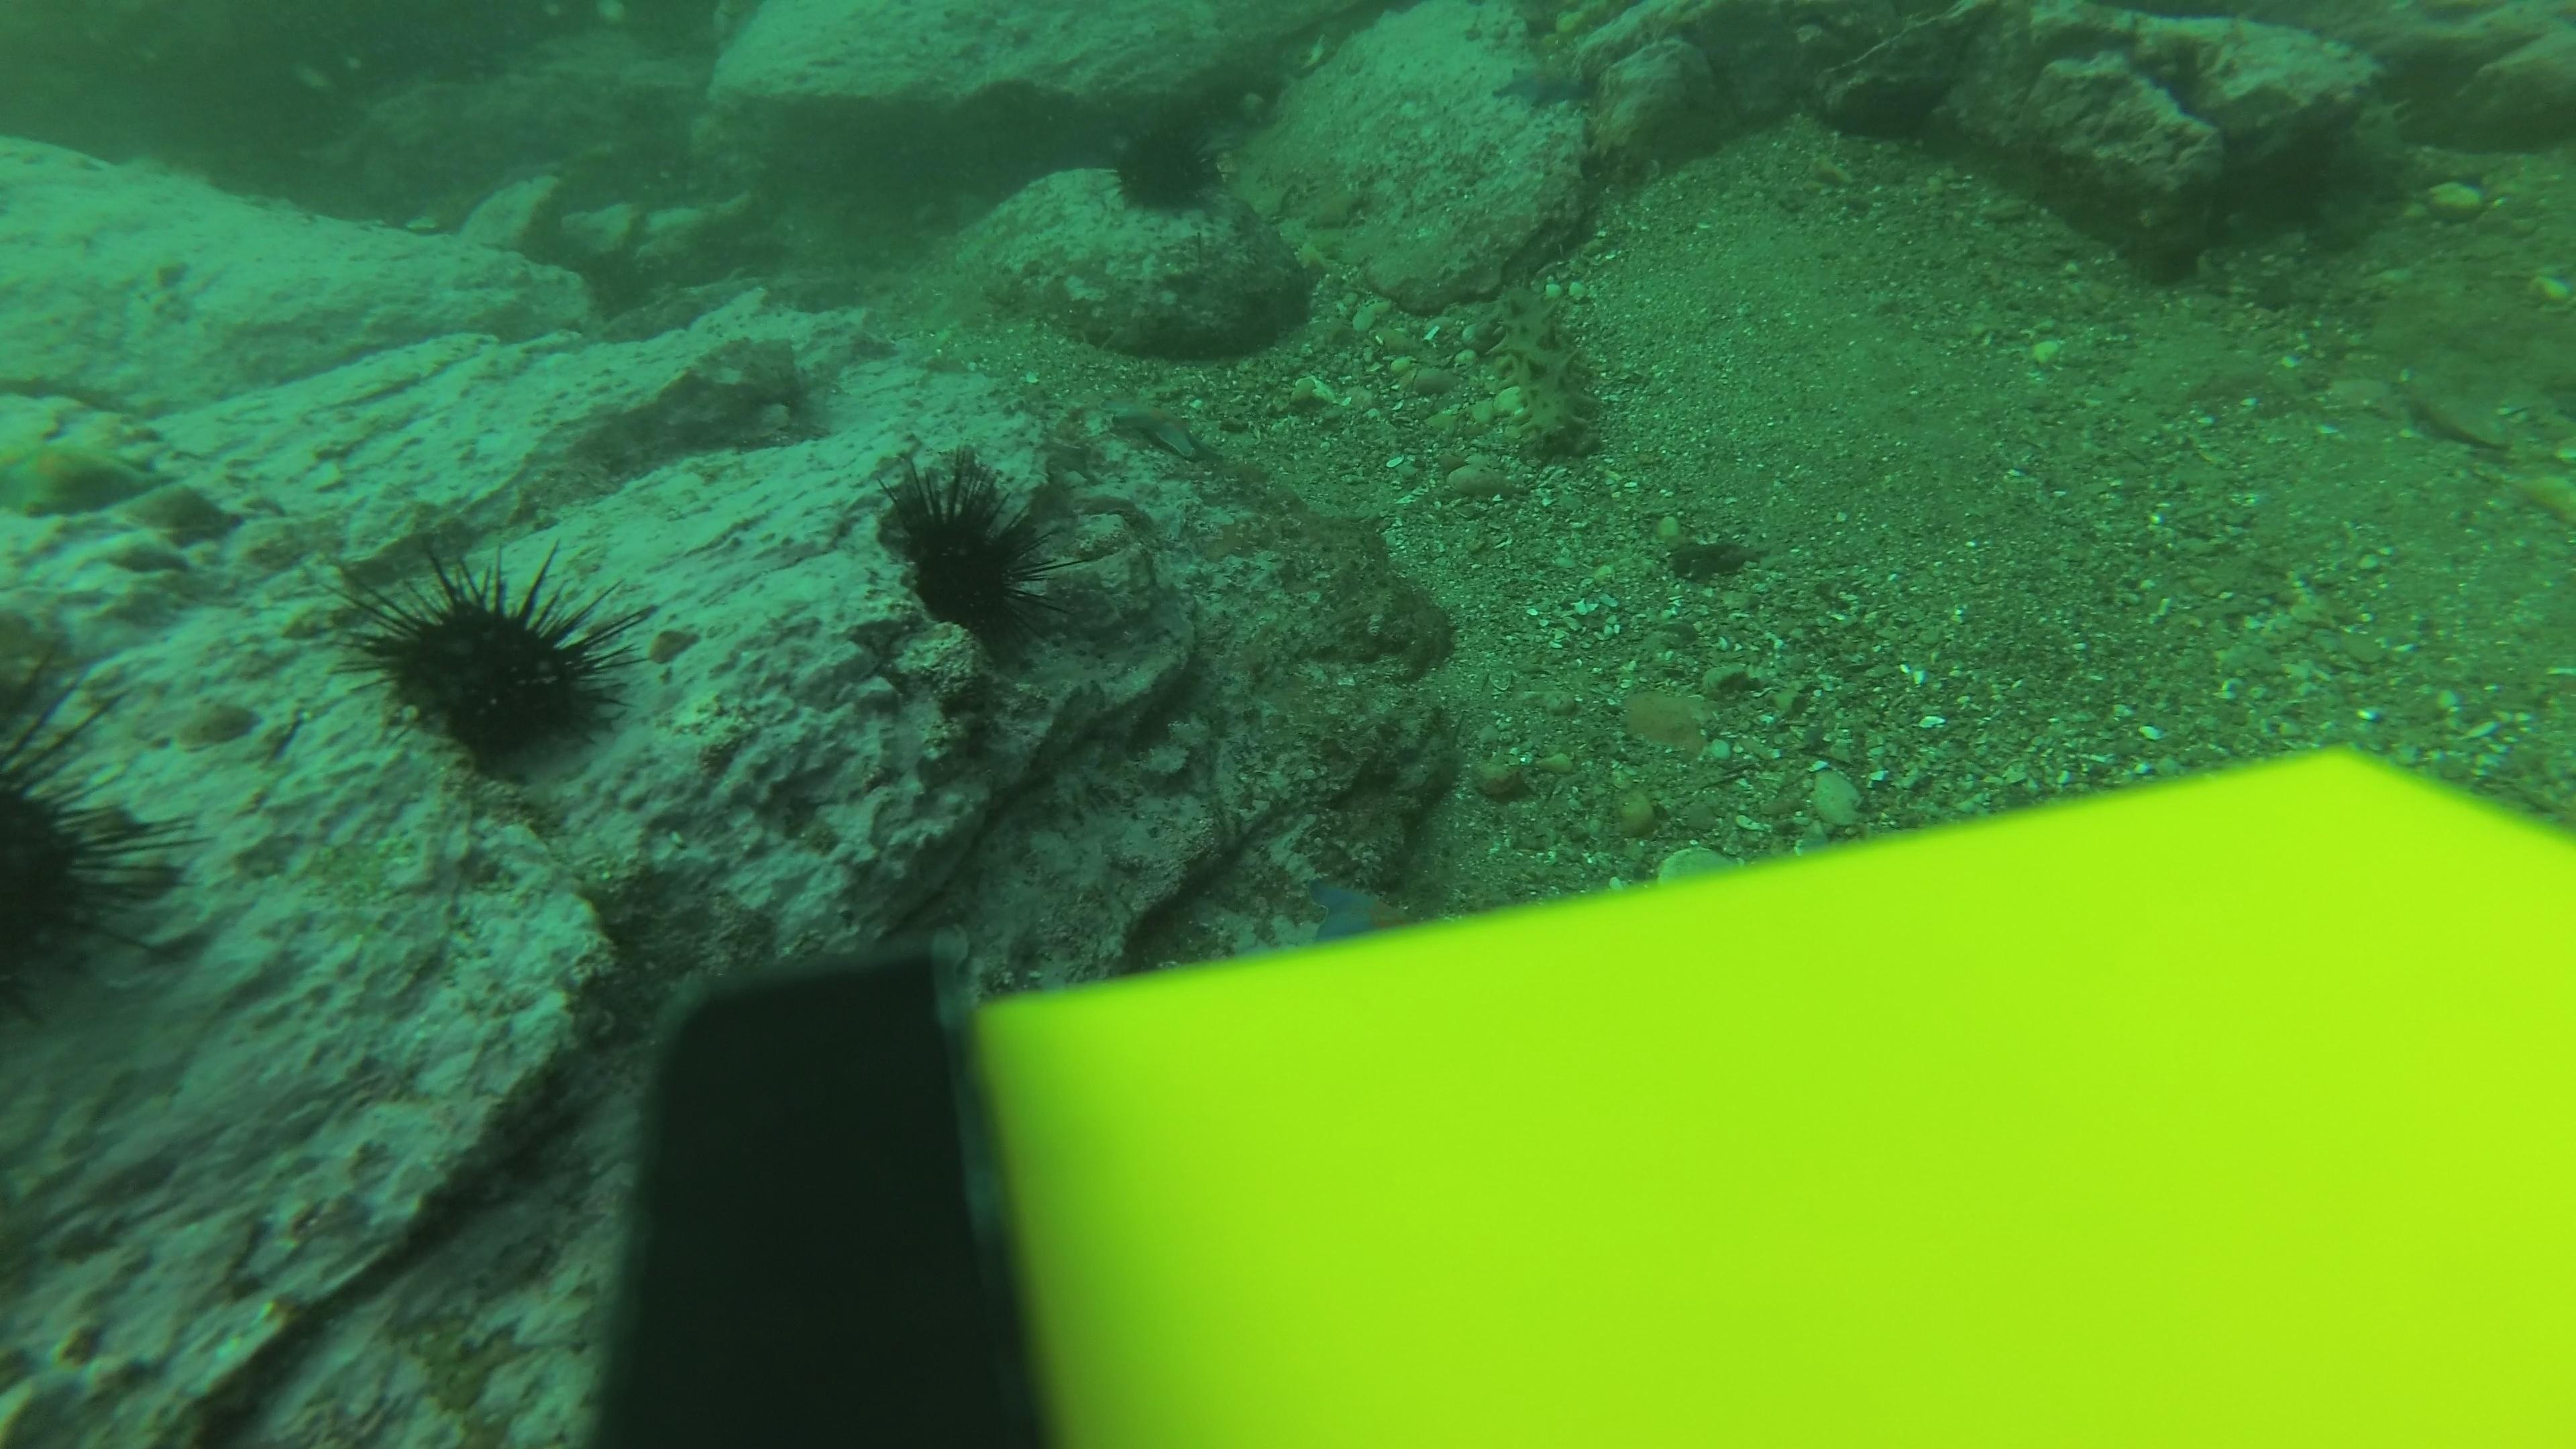echinus: (341, 538, 640, 775), (0, 678, 202, 1024), (869, 448, 1067, 655), (1104, 113, 1228, 219)
holothurian: (1479, 274, 1614, 474)
starfish: (2, 433, 172, 522), (1297, 867, 1412, 939), (649, 269, 770, 334), (1100, 396, 1214, 462), (1491, 55, 1596, 113)
